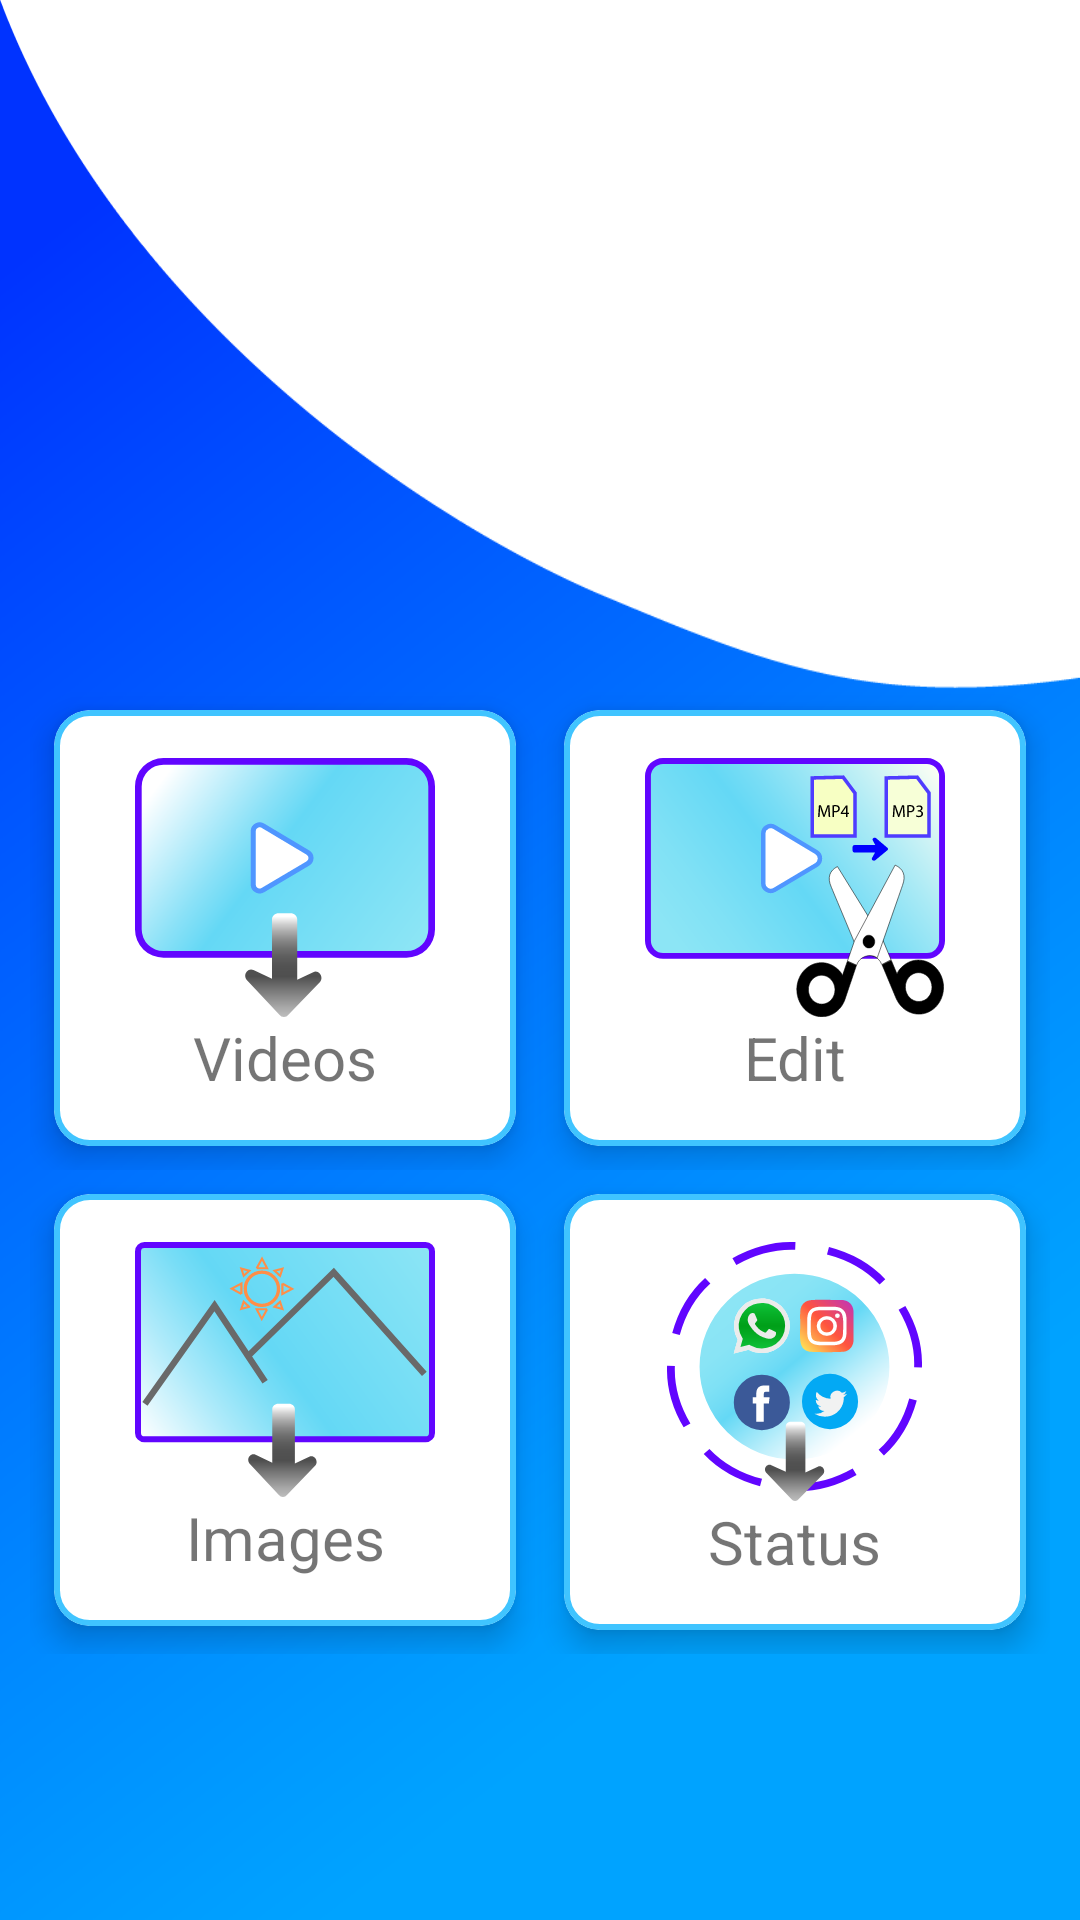

Icon bounding boxes for this 1080px×1920px phone screenshot, format (x1,y1,x2,y2):
cut: (645,758,945,1017)
